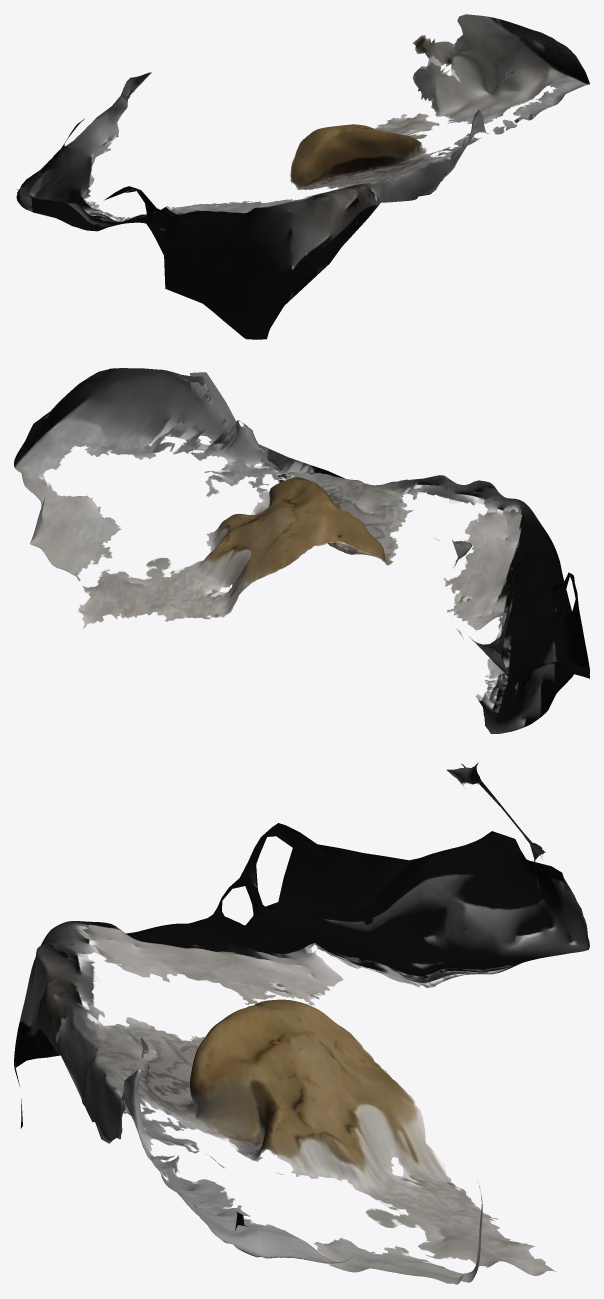
3 views of the same model, one above another, from view 1: azimuth 30°, elevation 25°; view 2: azimuth 150°, elevation 25°; view 3: azimuth 270°, elevation 25° (orthographic). The views are drawn at different scales.
Bounding box in the file's own units: 1.24 × 0.4209 × 0.6293.
Materials: 1 (1 with a texture image).
